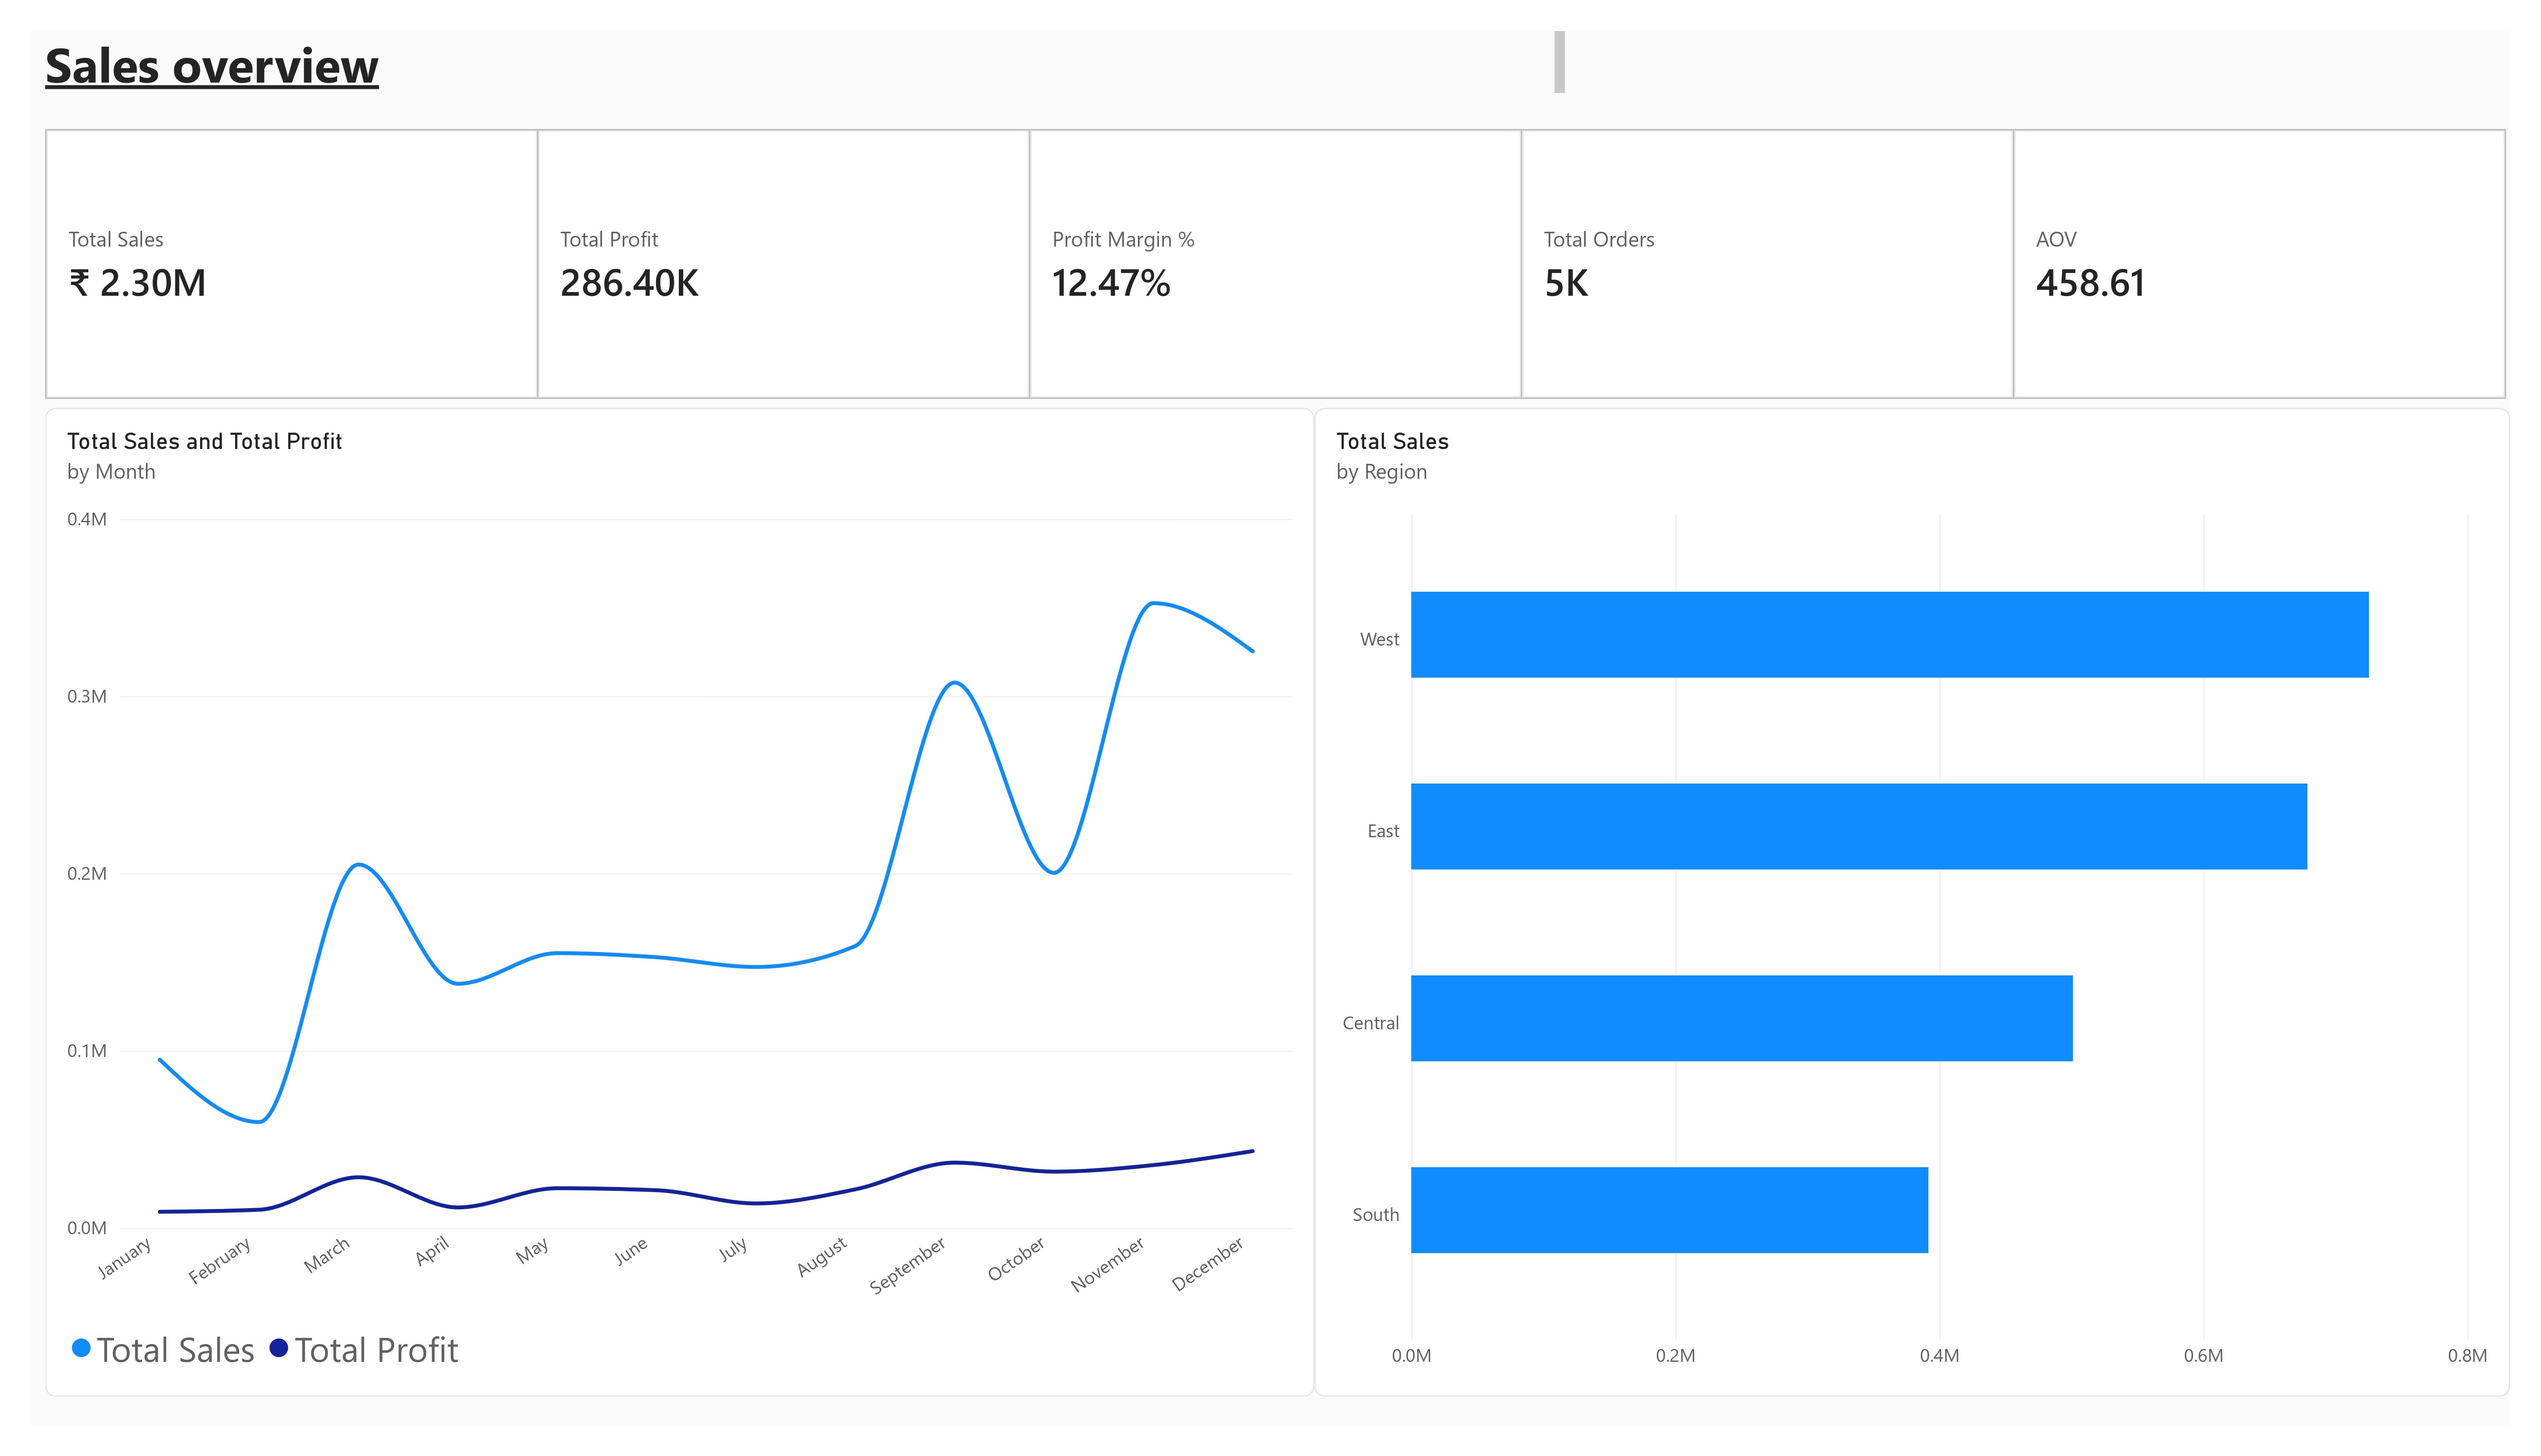

Layout of this report page (visuals, bound fields, positions):
{"tool":"powerbi","page":{"name":"Overview","canvas":[1920,1080],"ordinal":0},"visuals":[{"type":"textbox","box":[10.8,0,1177.2,75.6],"z":0},{"type":"lineChart","fields":{"Category":["superstore_cleaned.Order Date.Variation.Date Hierarchy.Month"],"Y":["superstore_cleaned.Total Sales","superstore_cleaned.Total Profit"]},"box":[10.8,291.6,982.8,766.8],"z":1000},{"type":"clusteredBarChart","fields":{"Category":["superstore_cleaned.Region"],"Y":["superstore_cleaned.Total Sales"]},"box":[993.6,291.6,926.6,766.8],"z":2000},{"type":"cardVisual","fields":{"Data":["superstore_cleaned.Total Sales","superstore_cleaned.Total Profit","superstore_cleaned.Profit Margin %","superstore_cleaned.Total Orders","superstore_cleaned.AOV"]},"box":[10.8,75.6,1909.4,209.5],"z":3000}]}

Visuals, with their boxes on the page's 1920x1080 design canvas (x1, y1, x2, y2). These are canvas units, not pixel positions in the 2541x1456 screenshot, which may show the page scaled, cropped or inside an application window:
textbox: BBox(11, 0, 1188, 76)
lineChart - superstore_cleaned.Order Date.Variation.Date Hierarchy.Month x superstore_cleaned.Total Sales: BBox(11, 292, 994, 1058)
clusteredBarChart - superstore_cleaned.Region x superstore_cleaned.Total Sales: BBox(994, 292, 1920, 1058)
cardVisual - superstore_cleaned.Total Sales x superstore_cleaned.Total Profit: BBox(11, 76, 1920, 285)
